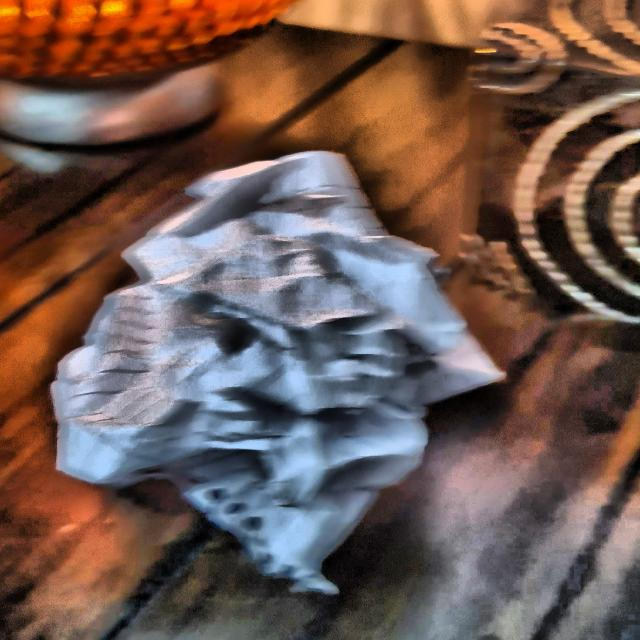paper: (49, 138, 499, 563)
